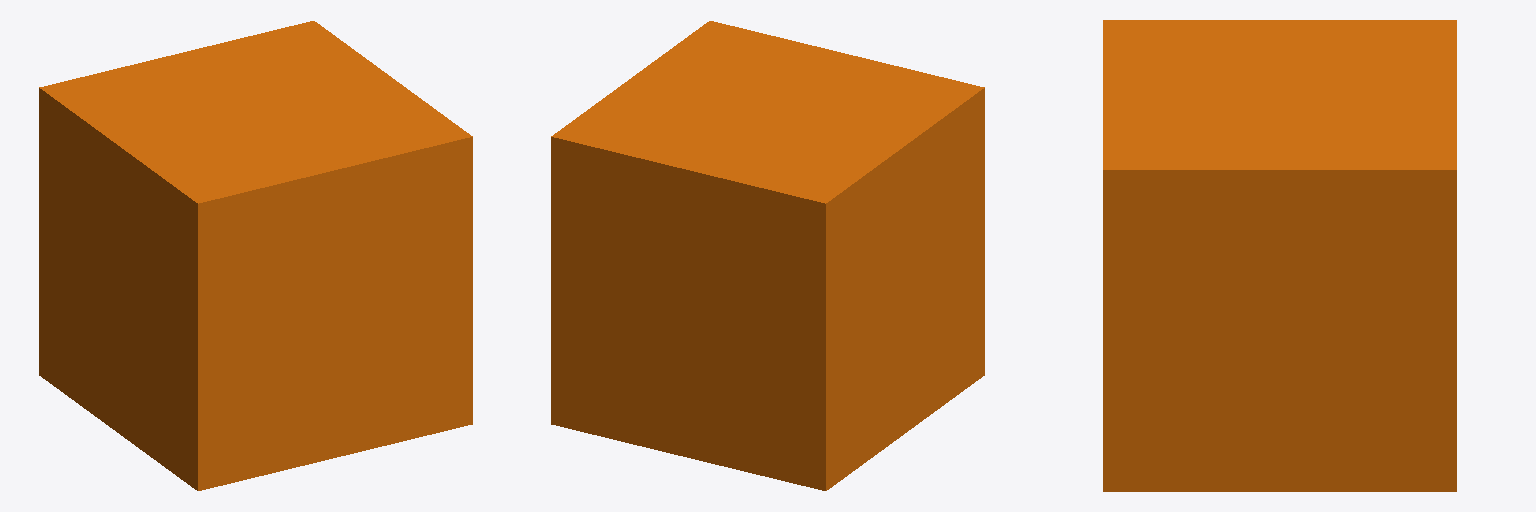
The robot description file, URDF, robot "cube_2_large":
<?xml version="1.0" ?>
<robot name="cube_2_large">
    <link name="cube_link_2_large">
        <inertial>
            <!-- CoM shifted -30 mm along Z — same 37% half-side ratio as cube_2
                 (-17.12 mm / 46 mm half-side = 37%  →  37% * 80 mm = 29.6 mm ≈ 30 mm) -->
            <origin rpy="0 0 0" xyz="0.0 0.0 -0.030"/>

            <mass value="2.5"/>

            <!-- Solid cube: I = m*s^2/6  s=0.16 m, m=2.5 kg -->
            <!-- I = 2.5 * 0.16^2 / 6 = 0.010667 kg*m^2  (at CoM) -->
            <inertia
                ixx="0.010667"
                ixy="0.0"
                ixz="0.0"
                iyy="0.010667"
                iyz="0.0"
                izz="0.010667"/>
        </inertial>

        <visual>
            <origin rpy="0 0 0" xyz="0 0 0"/>
            <geometry>
                <box size="0.16 0.16 0.16"/>
            </geometry>
            <material name="Orange">
                <color rgba="0.9 0.5 0.1 1.0"/>
            </material>
        </visual>

        <collision>
            <origin rpy="0 0 0" xyz="0 0 0"/>
            <geometry>
                <box size="0.16 0.16 0.16"/>
            </geometry>
        </collision>
    </link>
</robot>

--- What the picture shows (computed from the rendered views, not written in the file) ---
The picture shows the robot from 3 angles, left to right: view 1: azimuth 30°, elevation 25°; view 2: azimuth 150°, elevation 25°; view 3: azimuth 270°, elevation 25°; orthographic projection.
Robot: cube_2_large — 1 links, 0 joints (none); root link cube_link_2_large; default pose: every joint at zero.
Visible links, largest first — view 1: cube_link_2_large; view 2: cube_link_2_large; view 3: cube_link_2_large.
Link boxes in pixels (x1=…): cube_link_2_large: x1=39, y1=21, x2=472, y2=490; cube_link_2_large: x1=551, y1=21, x2=984, y2=490; cube_link_2_large: x1=1103, y1=20, x2=1456, y2=491.
Bounding box of the posed robot: 0.16 × 0.16 × 0.16 m (x, y, z).
Geometry: primitives only (box / cylinder / sphere), no mesh files.
